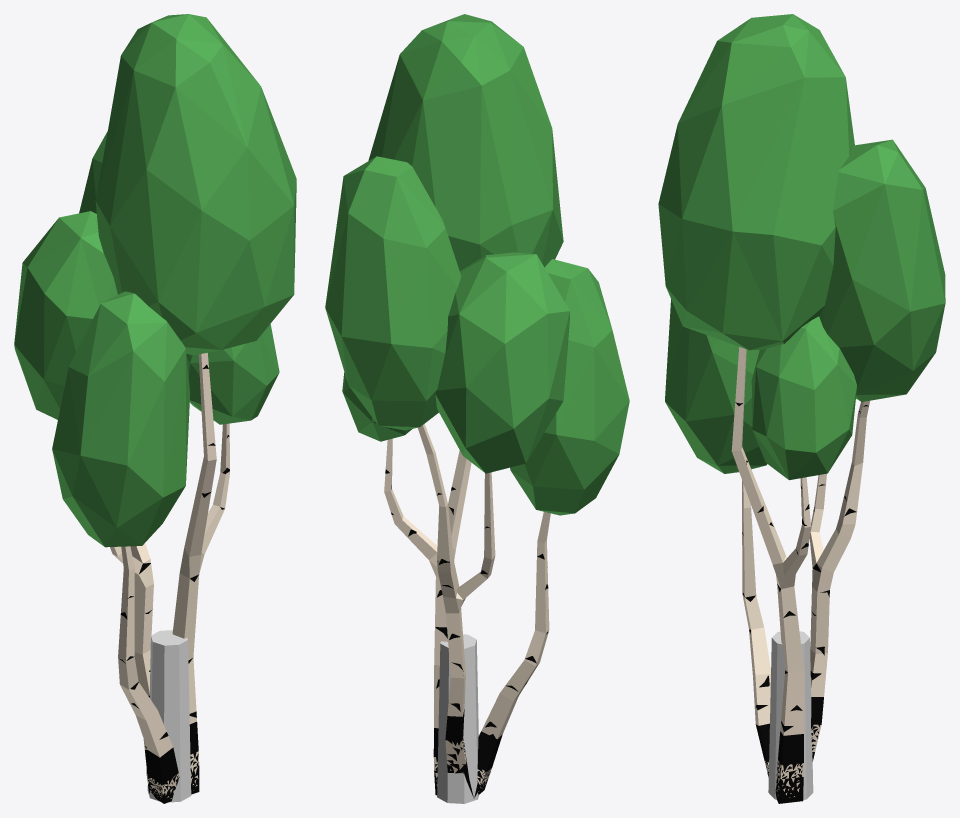
The model's file is floresta_tree_birch_hero_green.glb.
3 renders of one model, left to right at view 1: azimuth 30°, elevation 25°; view 2: azimuth 150°, elevation 25°; view 3: azimuth 270°, elevation 25°, orthographic.
Visible parts, largest first — view 1: Birch hero green f, Colisao; view 2: Birch hero green f, Colisao; view 3: Birch hero green f, Colisao.
Part boxes in pixels (box(x1,y1,x2,y2)): Birch hero green f: box(14, 14, 296, 803); Colisao: box(147, 630, 191, 802); Birch hero green f: box(325, 14, 629, 798); Colisao: box(437, 634, 478, 803); Birch hero green f: box(658, 14, 945, 803); Colisao: box(768, 631, 813, 799).
Bounding box in the file's own units: 6.8 × 21.21 × 7.12.
